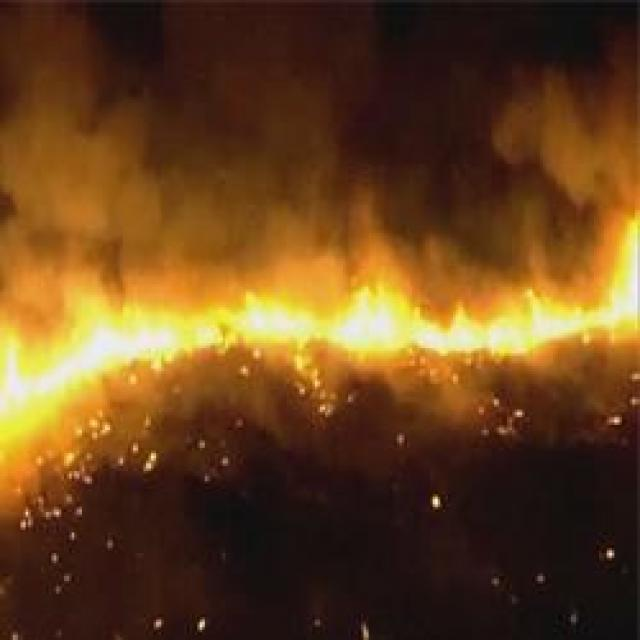fire: (0, 235, 633, 445)
